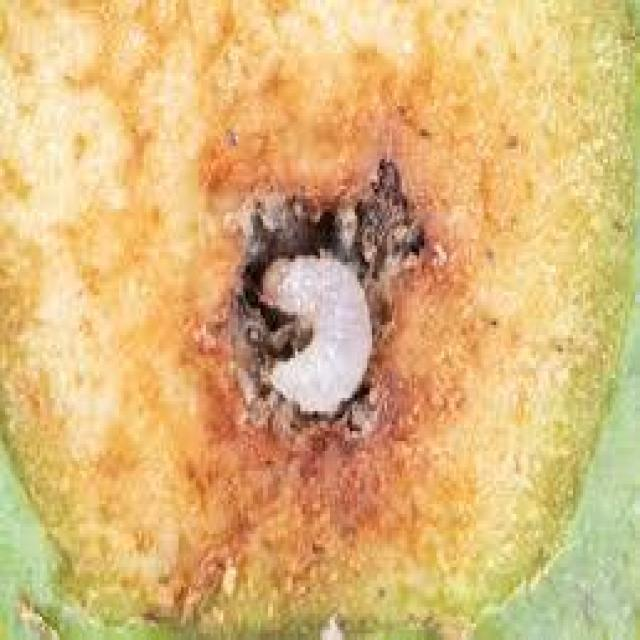Anthracnose: (2, 0, 632, 633)
